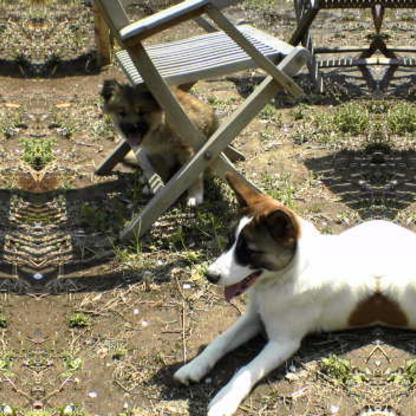Dog: (172, 170, 376, 414), (96, 79, 216, 207)
